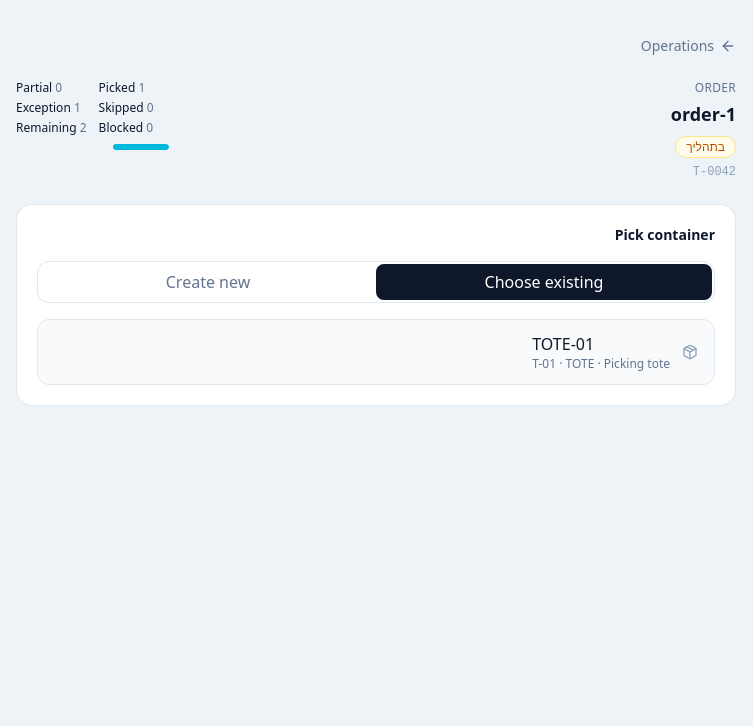
Test: PickTaskPage › manual next navigation skips non-actionable steps when secondary navigation is used
Step 1. Click the button "TOTE-01 T-01 · TOTE · Picking tote" → {"x": 563, "y": 344}, box 37,319 -> 715,385
(page scrolled)
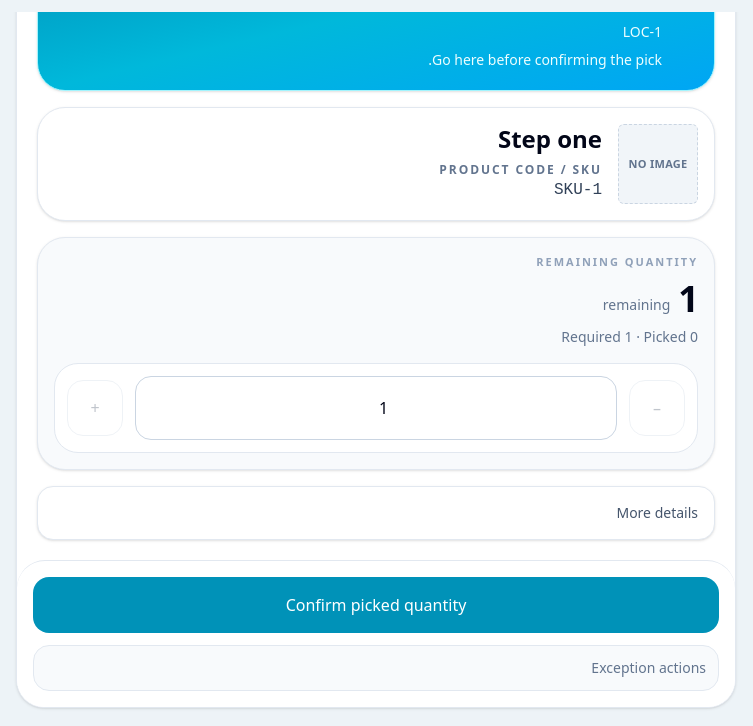
Step 2. Click the heading "More details" → {"x": 657, "y": 512}, box 616,502 -> 698,522
(page scrolled)
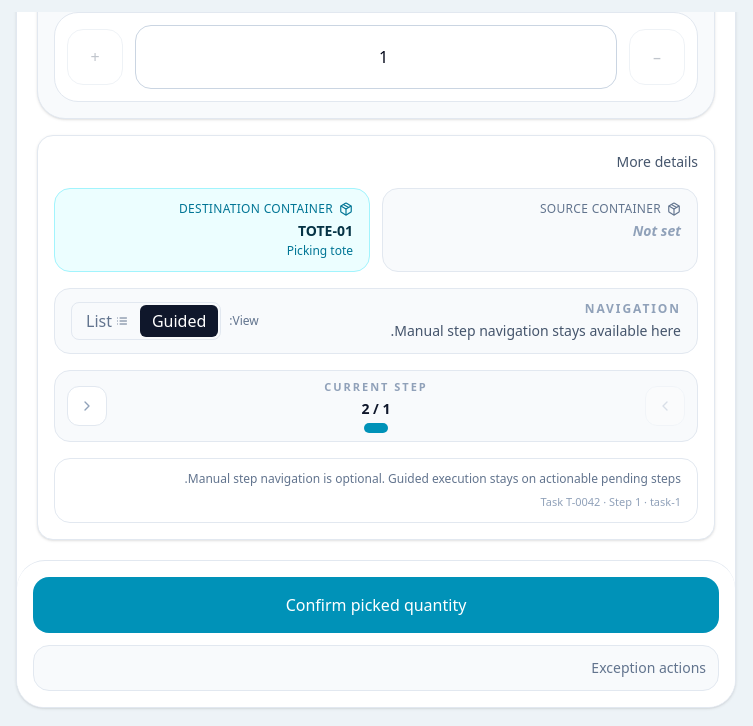
Step 3. Click the button named "Next step" → {"x": 87, "y": 406}, box 67,386 -> 107,426
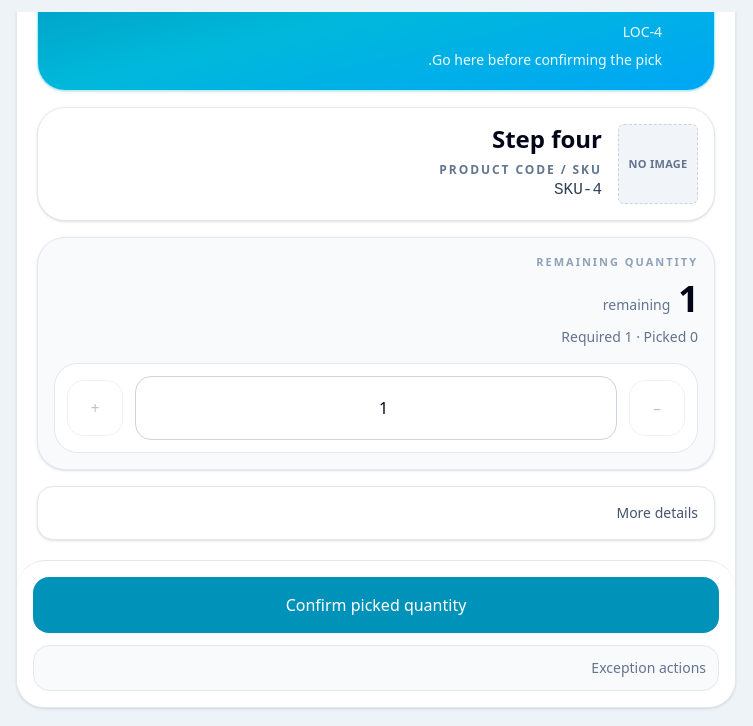
Result: the text "Step four" is shown at 492,122 -> 602,155
